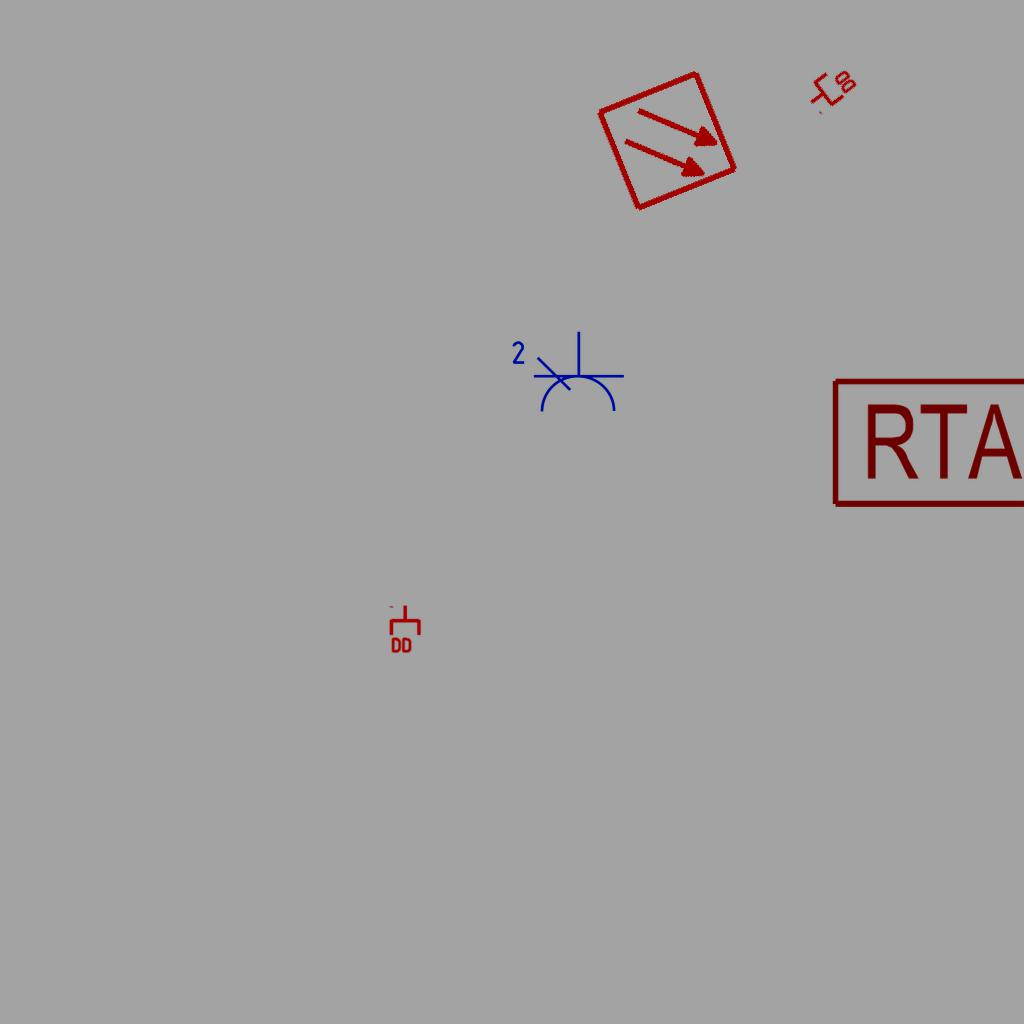Datenanschluss_zweifach: (799, 58, 861, 117), (389, 604, 423, 655)
RMO_Rauchmelder_optischer: (593, 66, 742, 215)
Ruf-und_Abstelltaster: (825, 374, 1024, 512)
Schukosteckdose_mehrfach: (505, 330, 626, 418)
